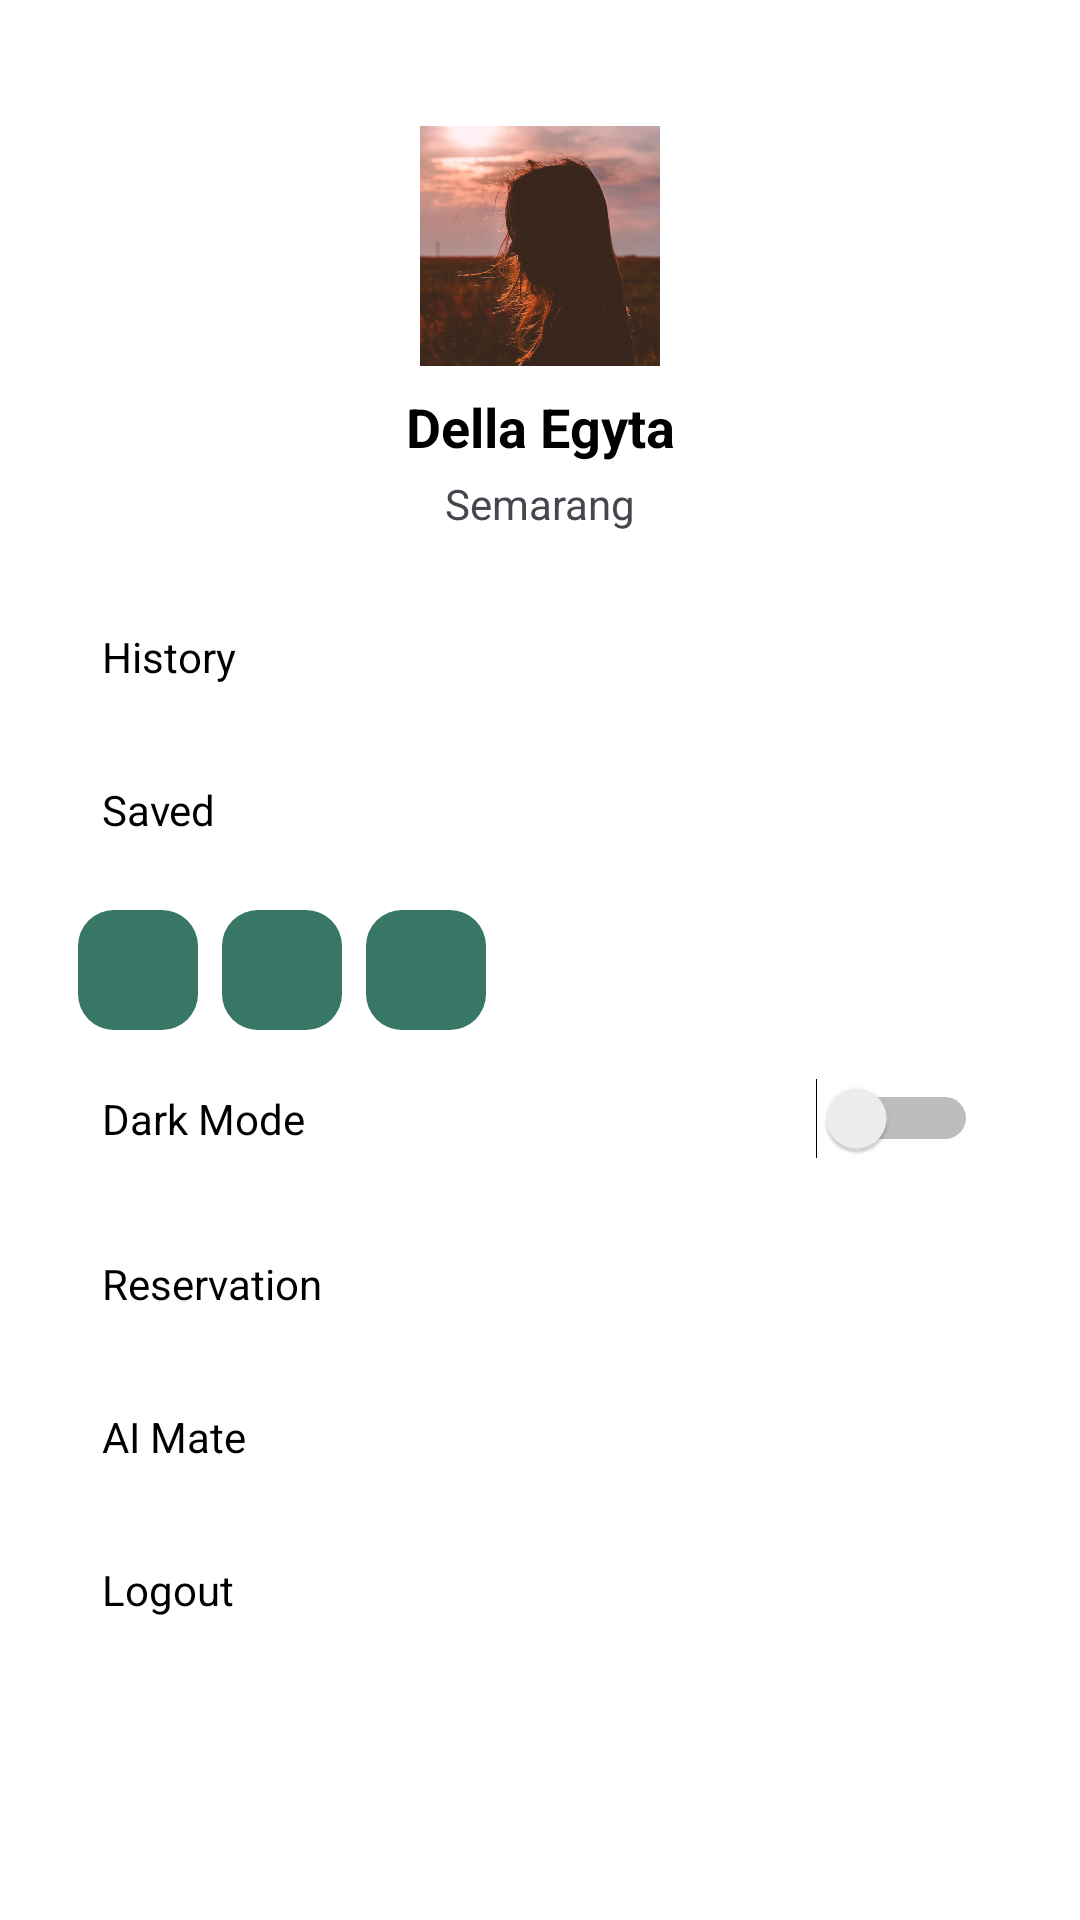

Screen size 1080 × 1920. Icon name, then its center in pixels as point (x, y):
profilee: point (540, 246)
